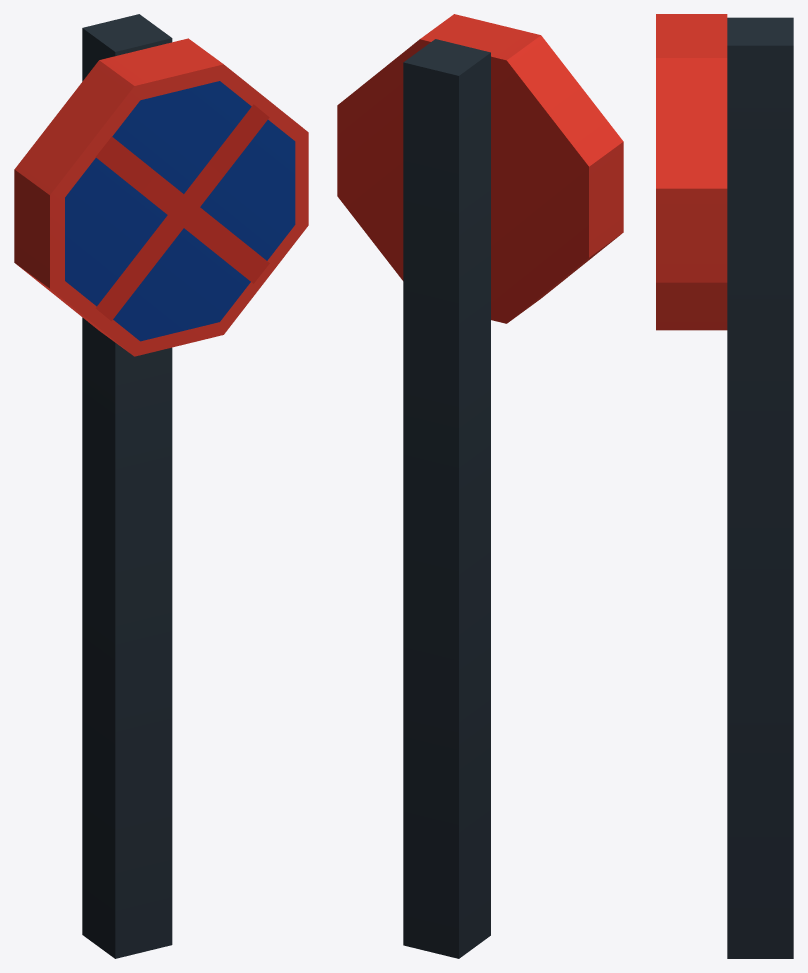
The model's file is Road_sign_10.fbx.
3 renders of one model, left to right at view 1: azimuth 30°, elevation 25°; view 2: azimuth 150°, elevation 25°; view 3: azimuth 270°, elevation 25°, orthographic. The views are drawn at different scales.
Parts seen in each view (by area): view 1: Road_sign_10; view 2: Road_sign_10; view 3: Road_sign_10.
Boxes of the visible parts, x1,y1,x2,y2 form: Road_sign_10: [14, 14, 308, 958]; Road_sign_10: [337, 14, 623, 958]; Road_sign_10: [656, 14, 793, 958].
Size of the model in its own units: 107 by 359 by 50.32.
